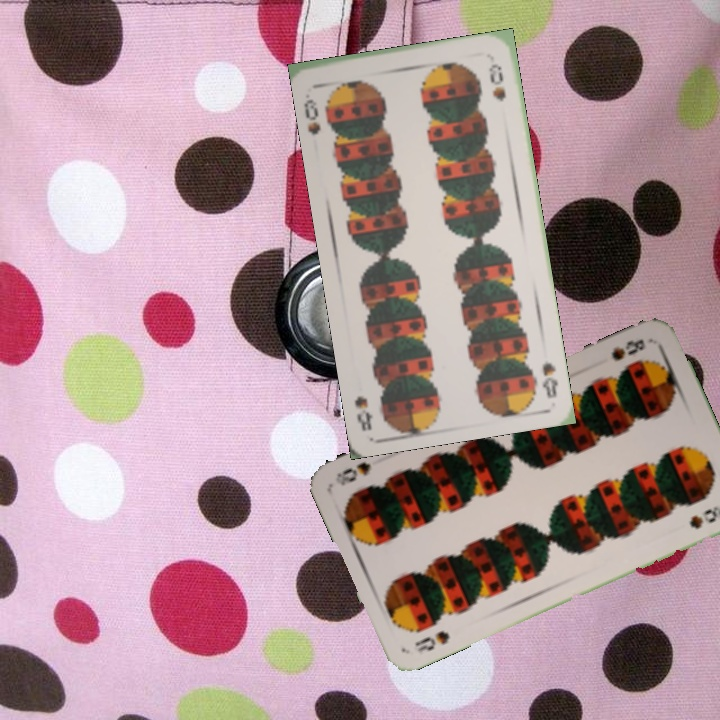S8: (411, 626, 453, 655), (607, 335, 648, 363), (538, 357, 561, 401), (300, 95, 323, 137)
